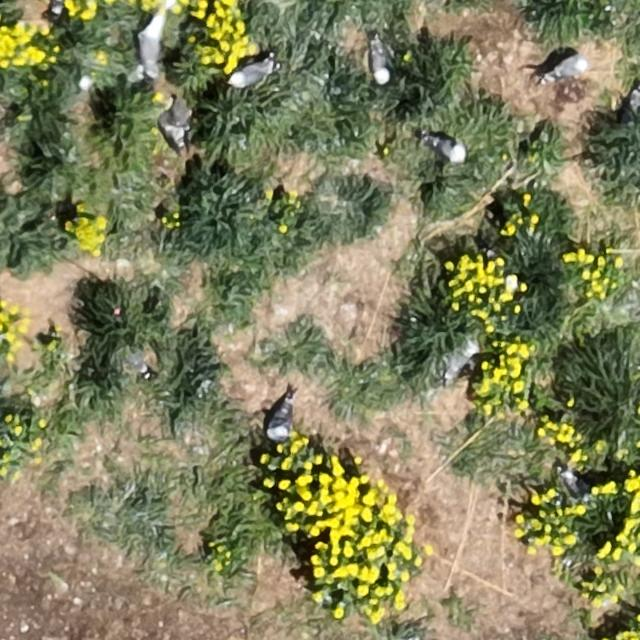umineko: (437, 336, 478, 383), (138, 22, 160, 75), (229, 61, 268, 85), (268, 400, 291, 438), (430, 136, 466, 159), (370, 43, 390, 83), (552, 56, 589, 76)
